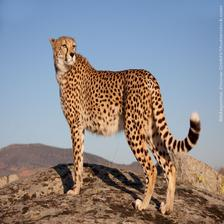Cheetah: (49, 35, 203, 214)
